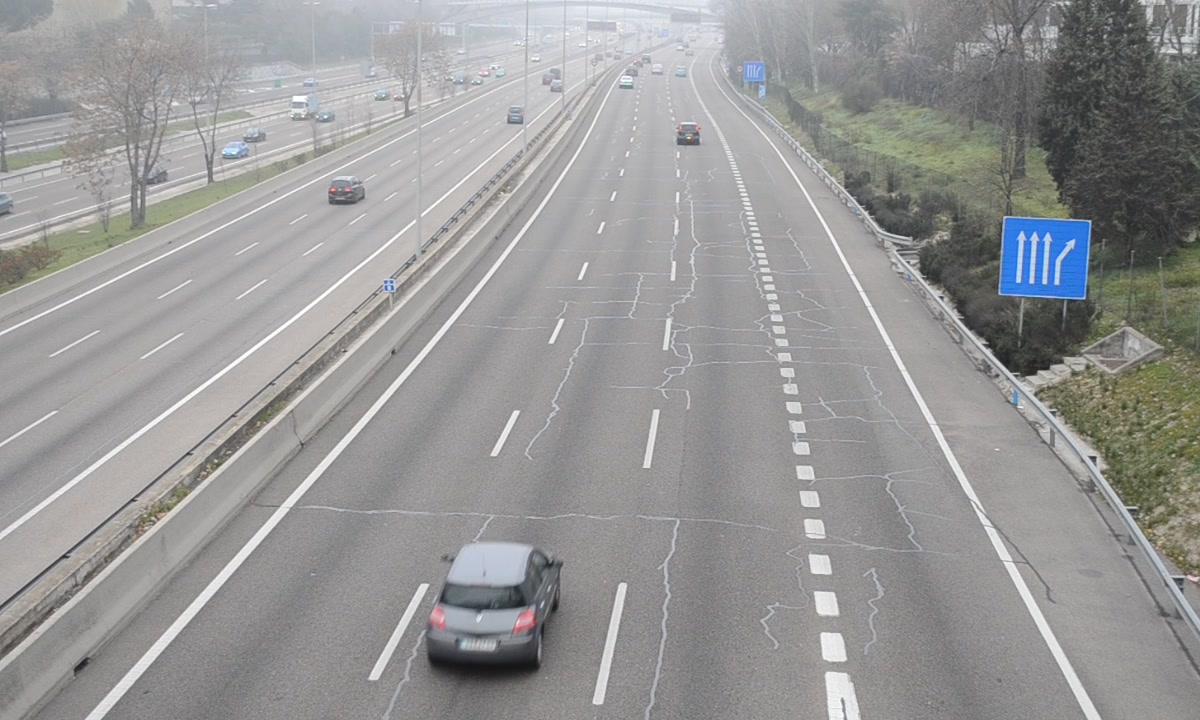car: (427, 543, 562, 664), (675, 120, 702, 145)
